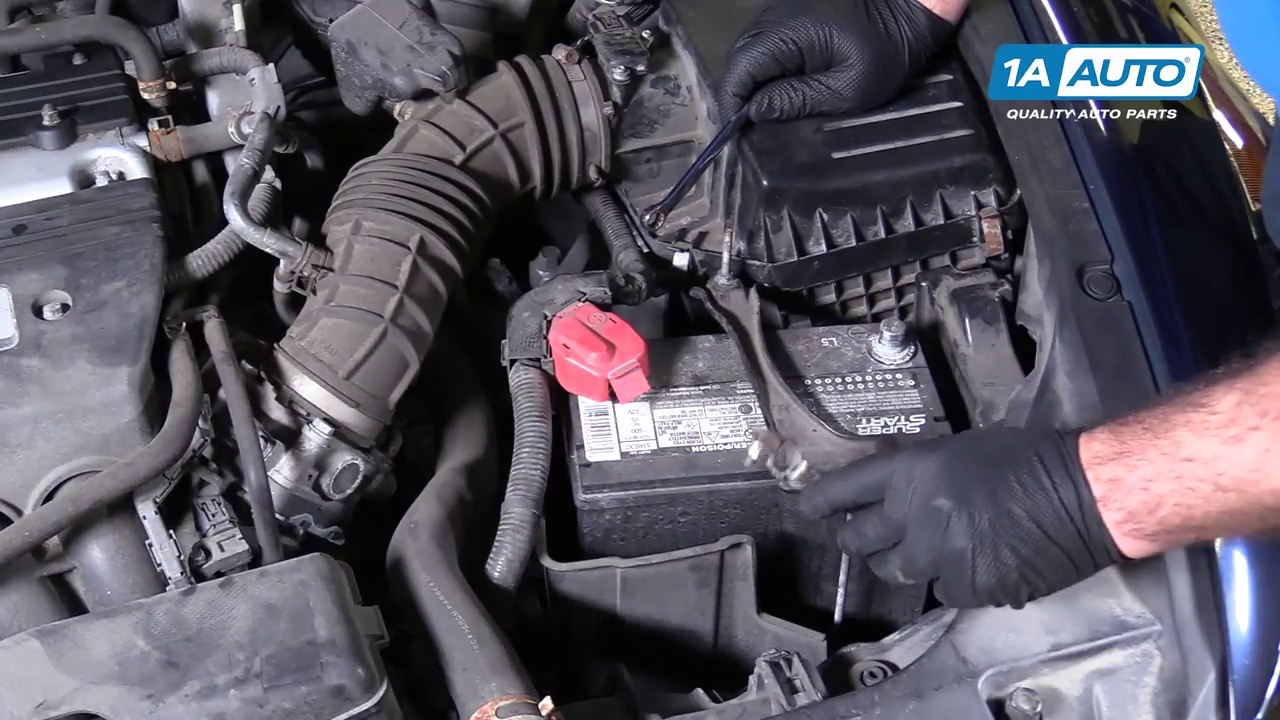battery: (534, 308, 971, 515)
neg_disconnected: (847, 302, 930, 383)
pos_connected: (554, 295, 666, 412)
